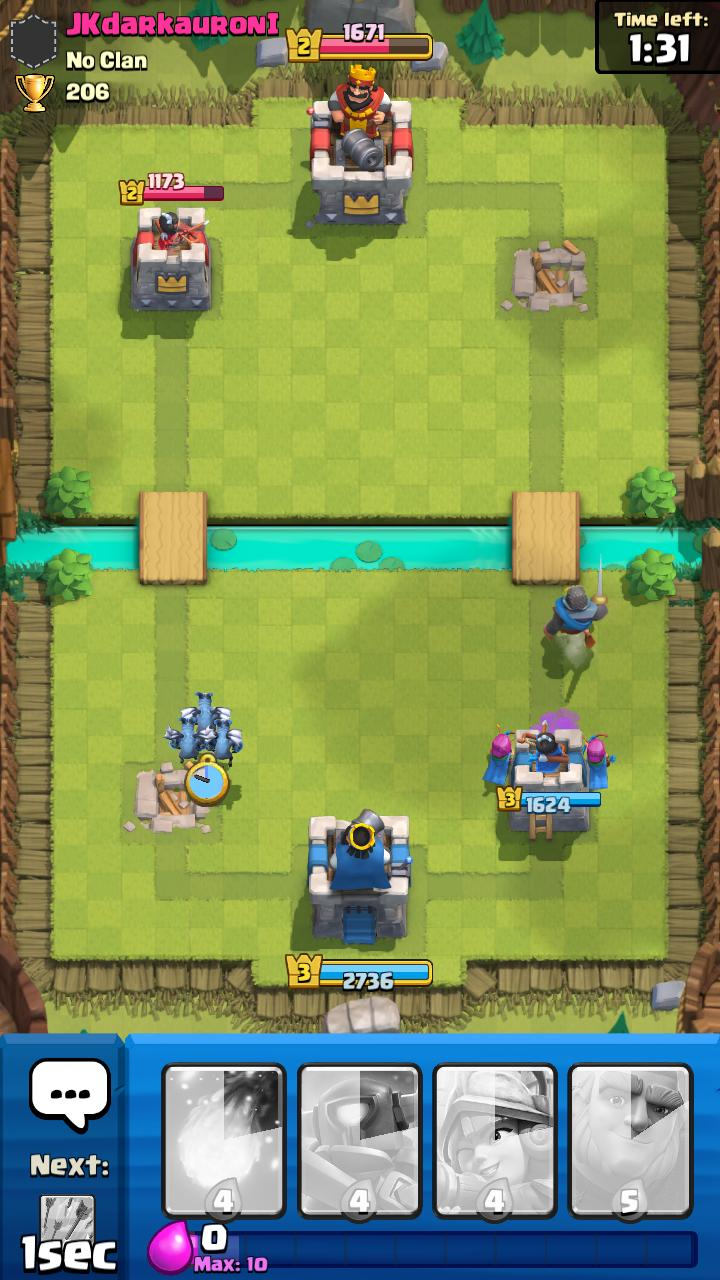ally: (543, 554, 608, 649), (163, 717, 217, 763), (179, 692, 233, 732), (581, 732, 617, 790), (199, 720, 243, 767), (482, 724, 515, 786)
